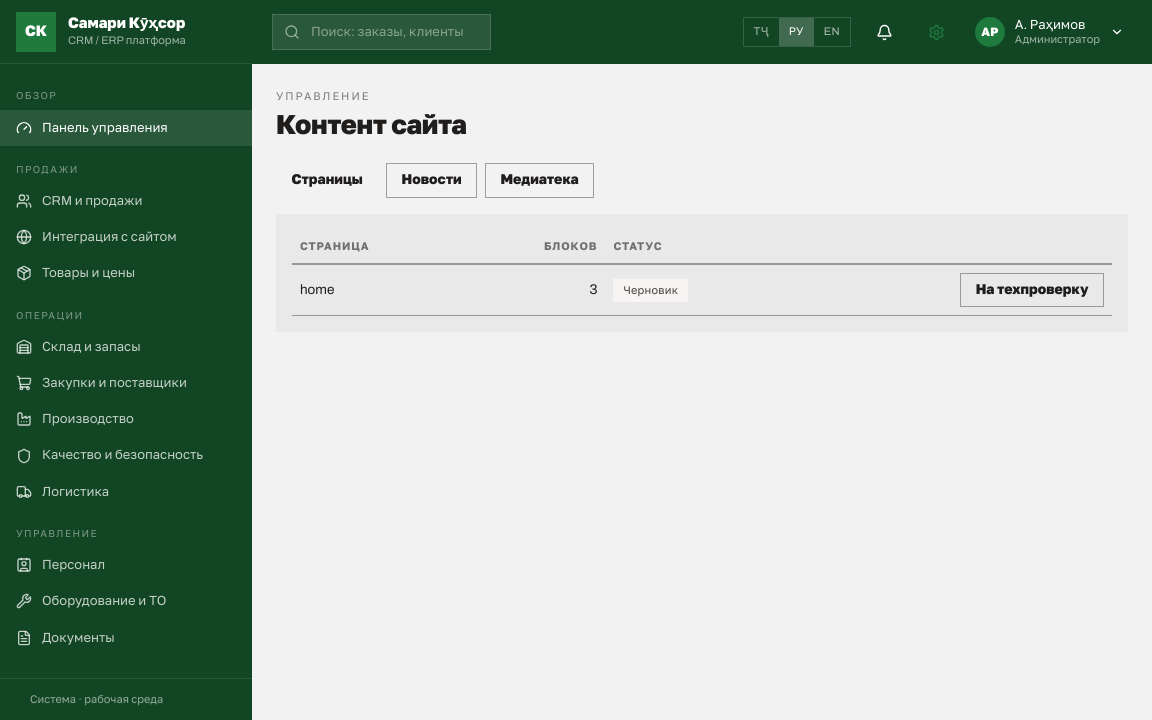
it: block editor › shows the empty state when a page has no blocks
What coordinates should you click on to do the following:
click the button "home"
I would click on:
 (317, 291)
Its box is [300,280,334,301].
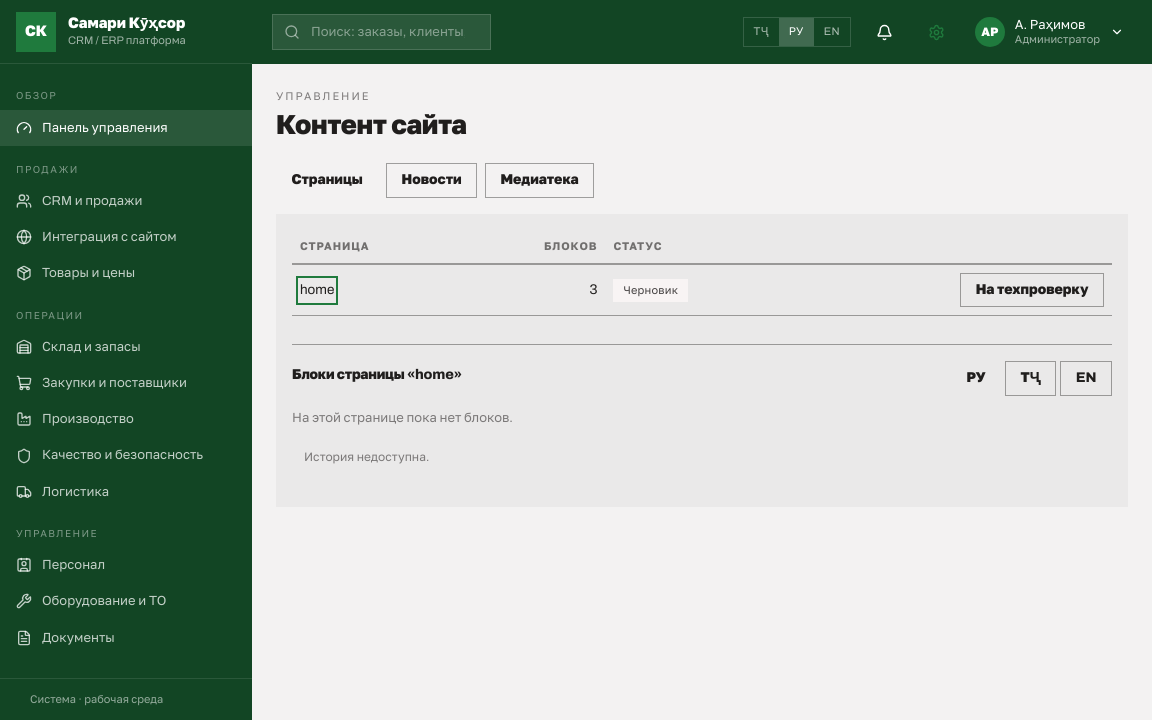
Result: the text "На этой странице пока нет блоков." is shown at [292,411,513,425]
